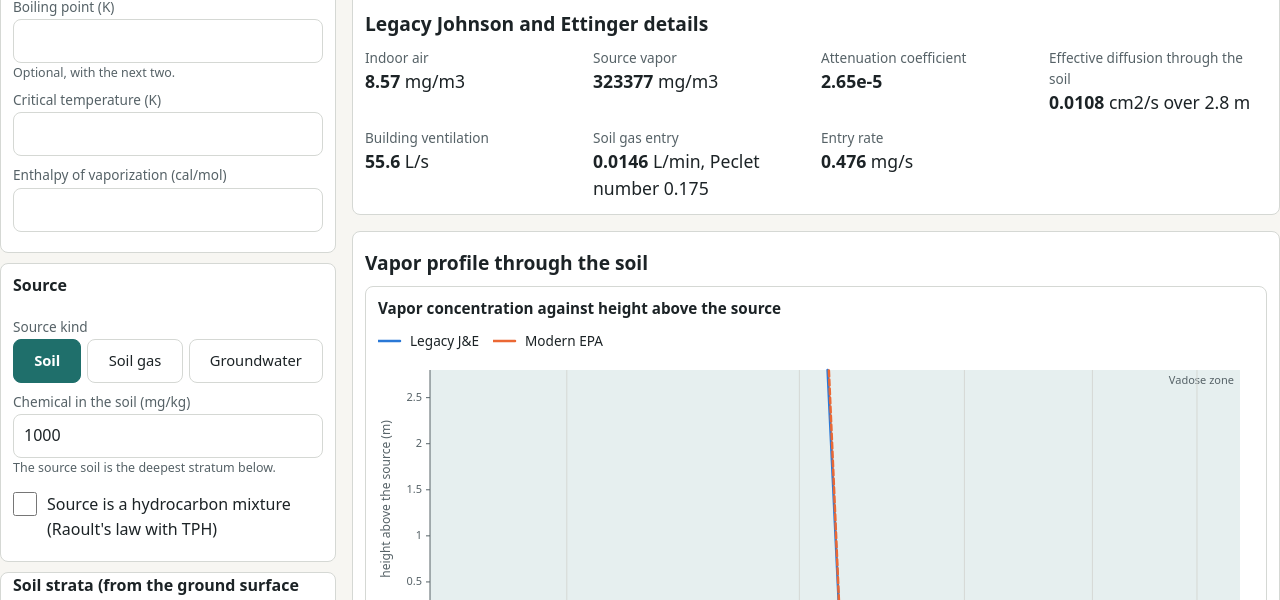
Test: attenuation factor › is not offered for a soil source and applies the 0.001 factor to groundwater
(page scrolled)
Step 1. Click the radio button labelled "Groundwater" → (256, 361), box 188,339 -> 323,383
(page scrolled)
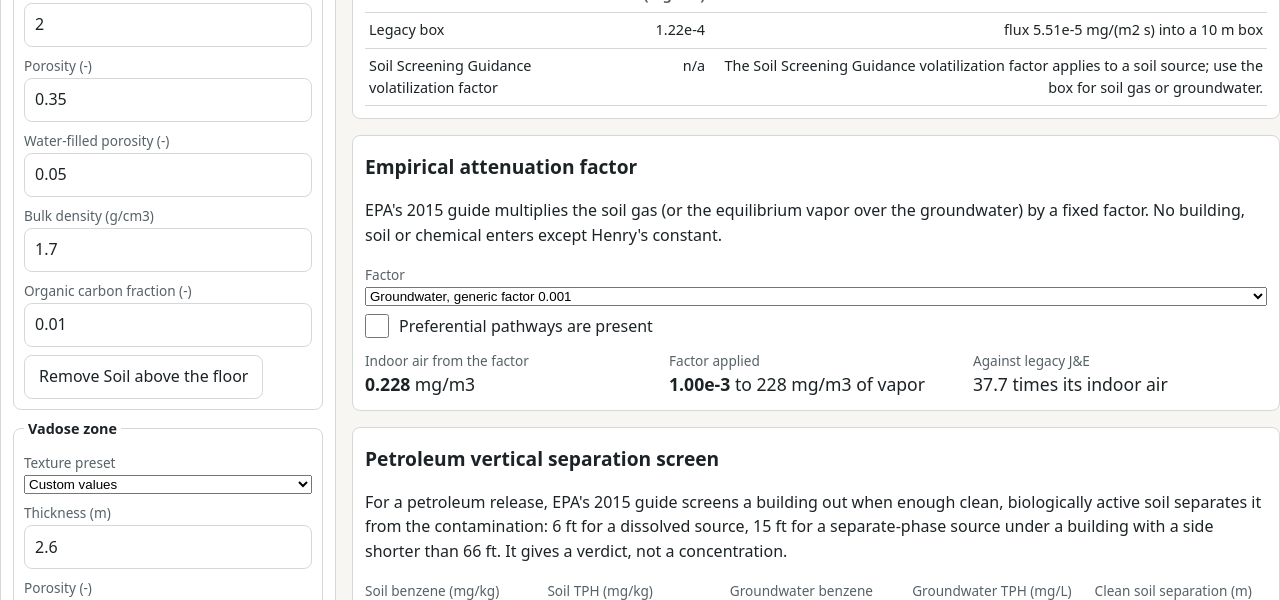
Now the text "Indoor air from the factor" is shown, box 365,351 -> 529,370
